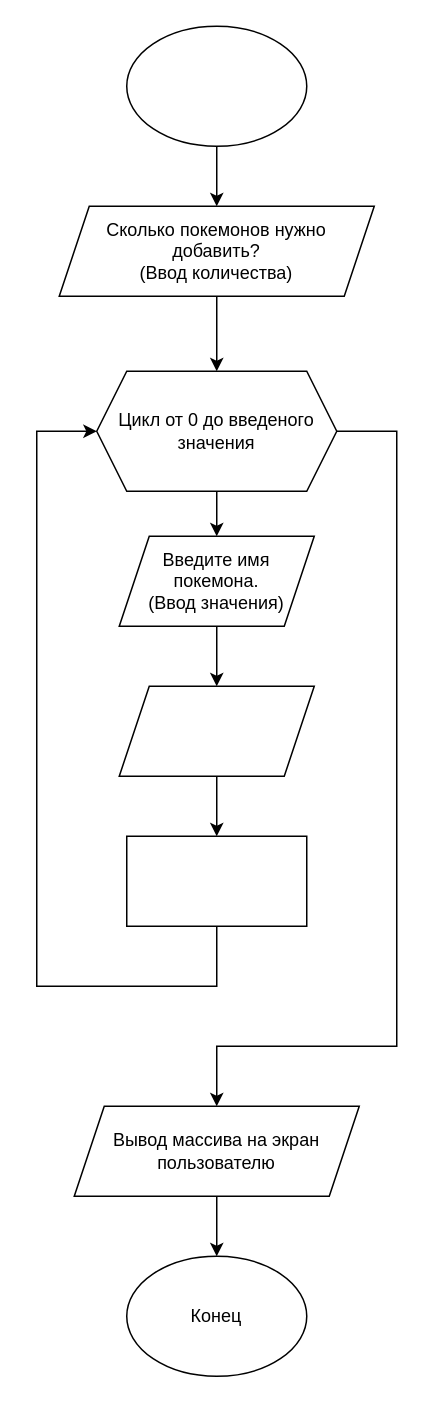
This 435x1403 diagram has some shape labels left out. Each missing label, with the centre of its shape:
"Введите цвет покемона. (Ввод значения)" goes at point (216, 730).
"Запись значений в массив" goes at point (216, 880).
"Старт" goes at point (216, 85).
